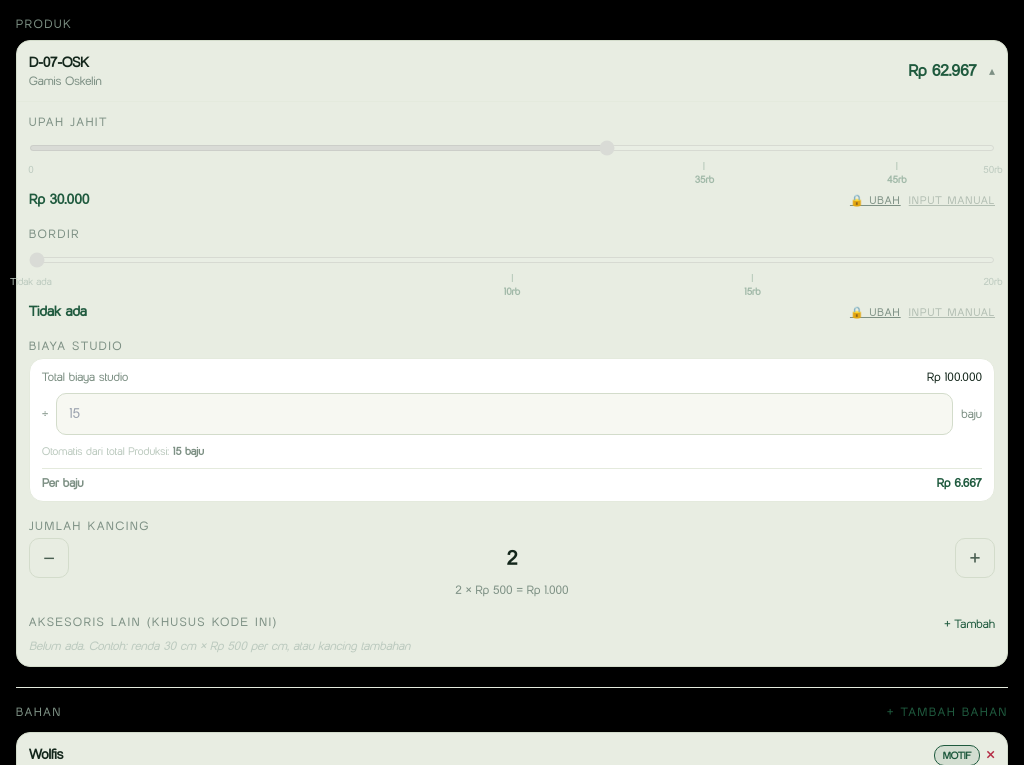
Test: HPPForm — Biaya Studio otomatis dari total Produksi (permintaan Denny 2026-09) › admin ketik manual -> nilai manual MENANG, placeholder/hint tidak lagi dipakai utk kalkulasi
The image size is (1024, 765).
Type "20" into the number field with test id "jumlah-baju-studio-0". click: [505, 414]
box: [56,393,953,435]
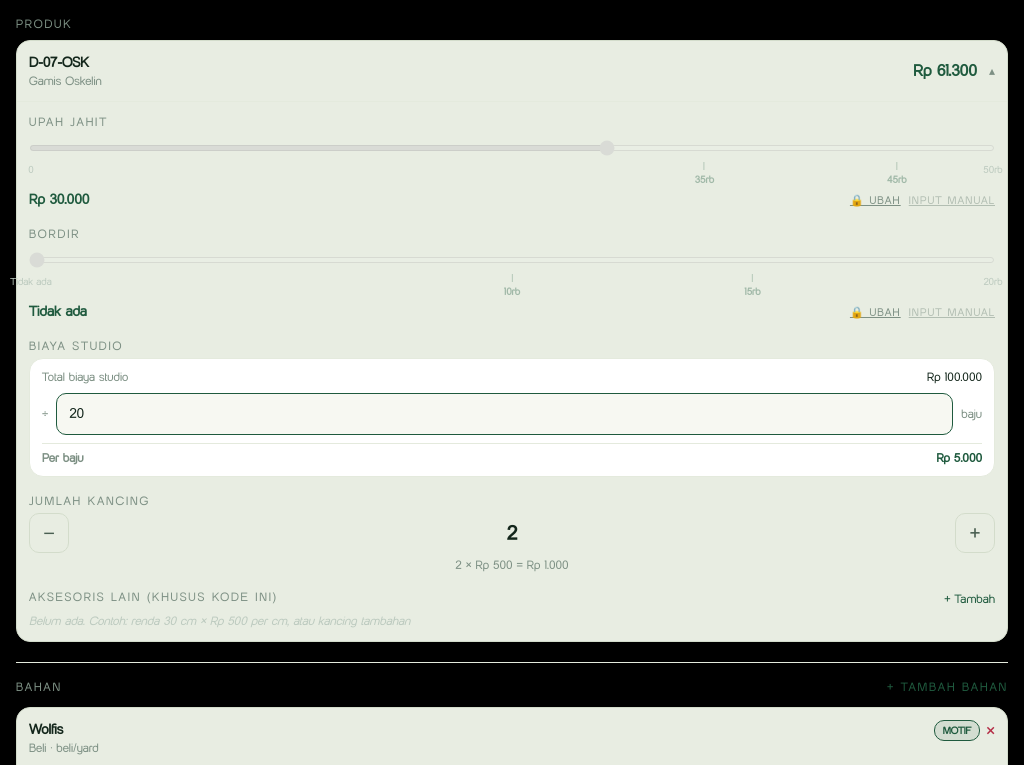
Expected: the text "Rp 5.000" is shown, [936,450,982,466]
Expected: the text "Otomatis dari total Produksi" is gone
